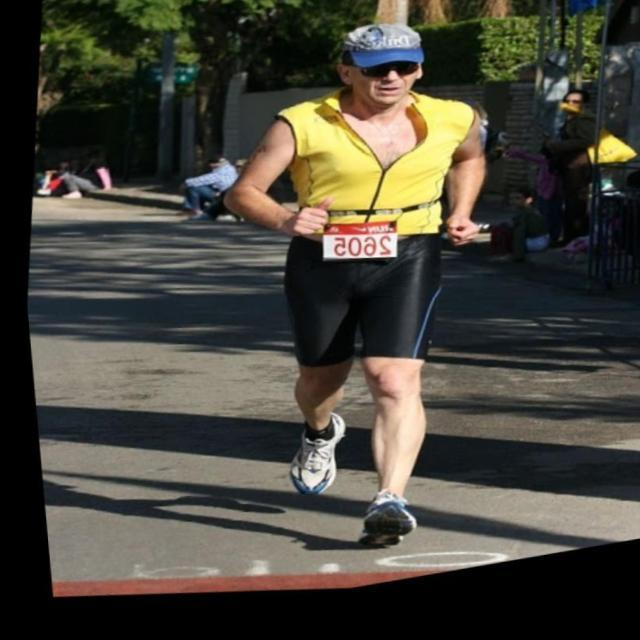dorsal: (308, 220, 400, 283)
